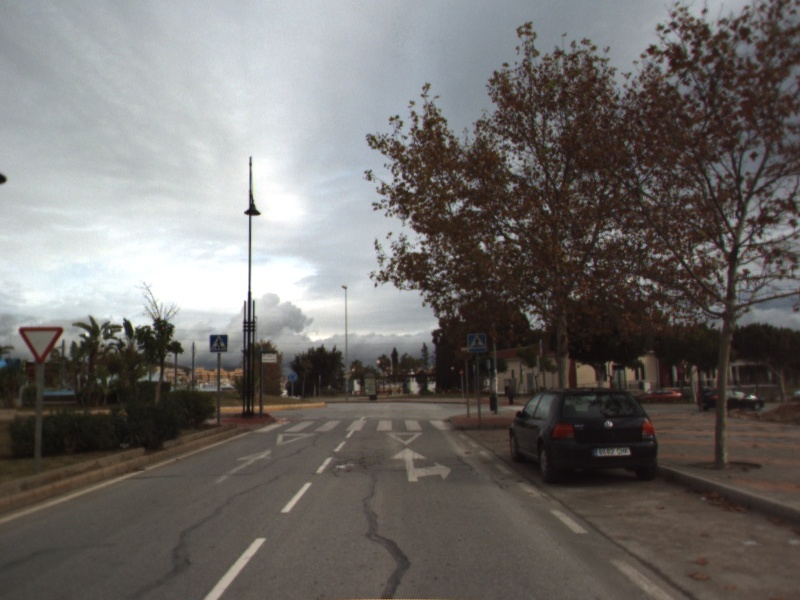STRAIGHT: (212, 447, 274, 485)
STRAIGHT_RIGHT: (388, 445, 453, 483)
